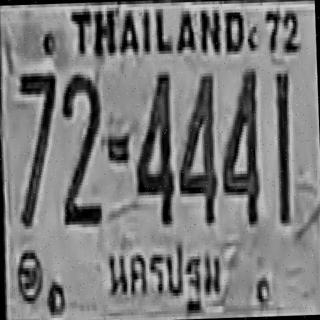N01: (272, 70, 293, 223)
N02: (57, 72, 103, 223)
N04: (218, 67, 262, 224), (174, 70, 218, 224), (130, 68, 174, 222)
N07: (16, 70, 60, 226), (18, 70, 59, 211)
P28: (103, 237, 231, 314)
